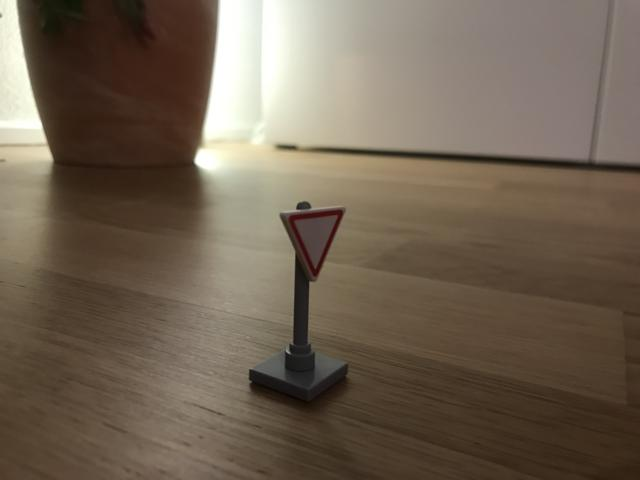vorfahrt gewähren: (281, 203, 346, 281)
